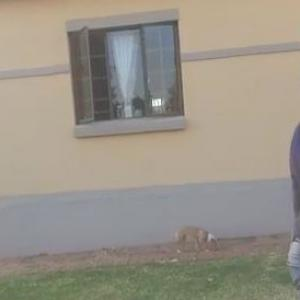follow: (278, 34, 300, 299)
null: (161, 220, 223, 256)
